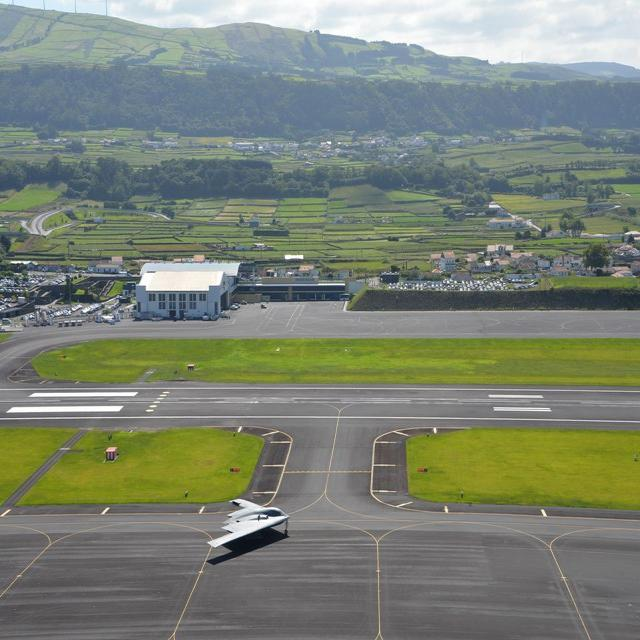MIL_Plane: (85, 497, 157, 550)
